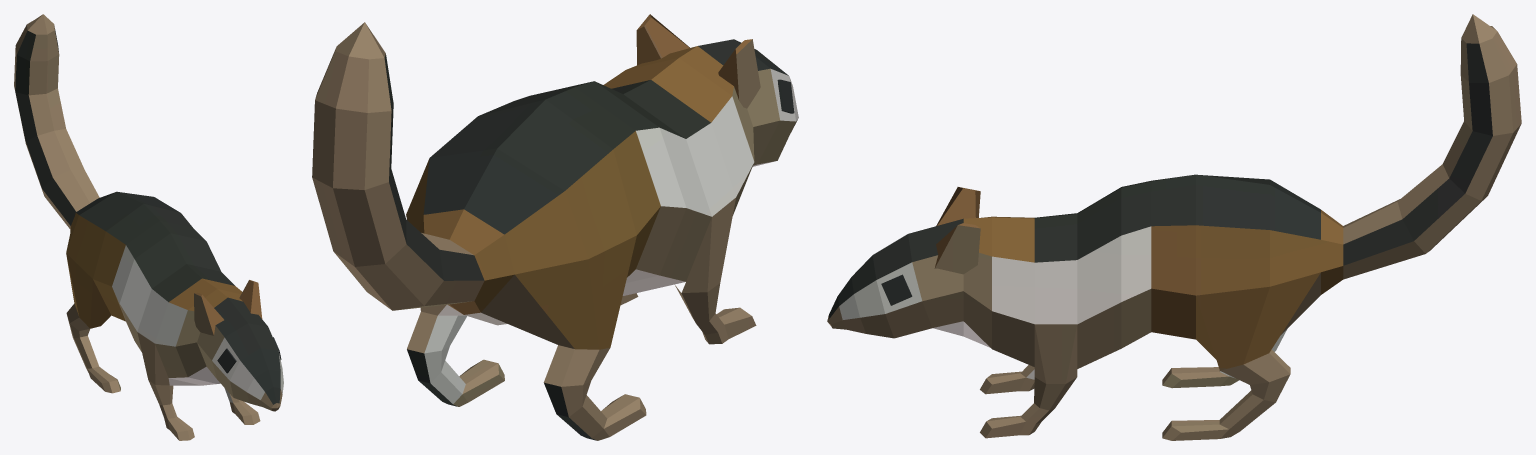
Rendered from fQ5KzXoR2uA.glb.
The picture shows the model from 3 angles, left to right: view 1: azimuth 30°, elevation 25°; view 2: azimuth 150°, elevation 25°; view 3: azimuth 270°, elevation 25°; orthographic projection. The views are drawn at different scales.
Visible parts, largest first — view 1: Geo_Chipmunk; view 2: Geo_Chipmunk; view 3: Geo_Chipmunk.
Part boxes in pixels (x1,y1,x2,y2): Geo_Chipmunk: [14, 14, 283, 440]; Geo_Chipmunk: [312, 14, 798, 440]; Geo_Chipmunk: [827, 14, 1521, 440].
Bounding box in the file's own units: 0.3712 × 1 × 1.59.
1 material, 1 textured.
